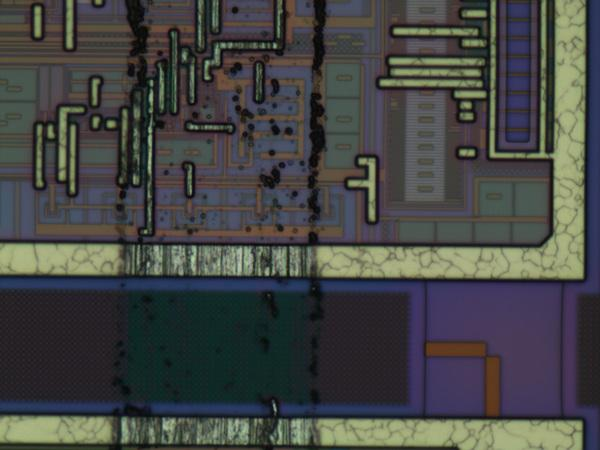SCRATCH: (105, 1, 340, 450)
